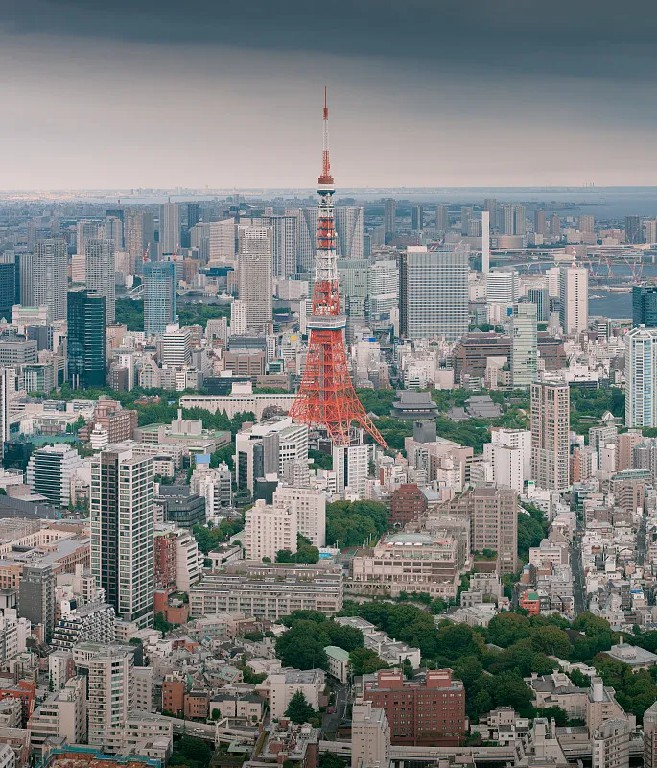Tokyo: (287, 80, 391, 455)
